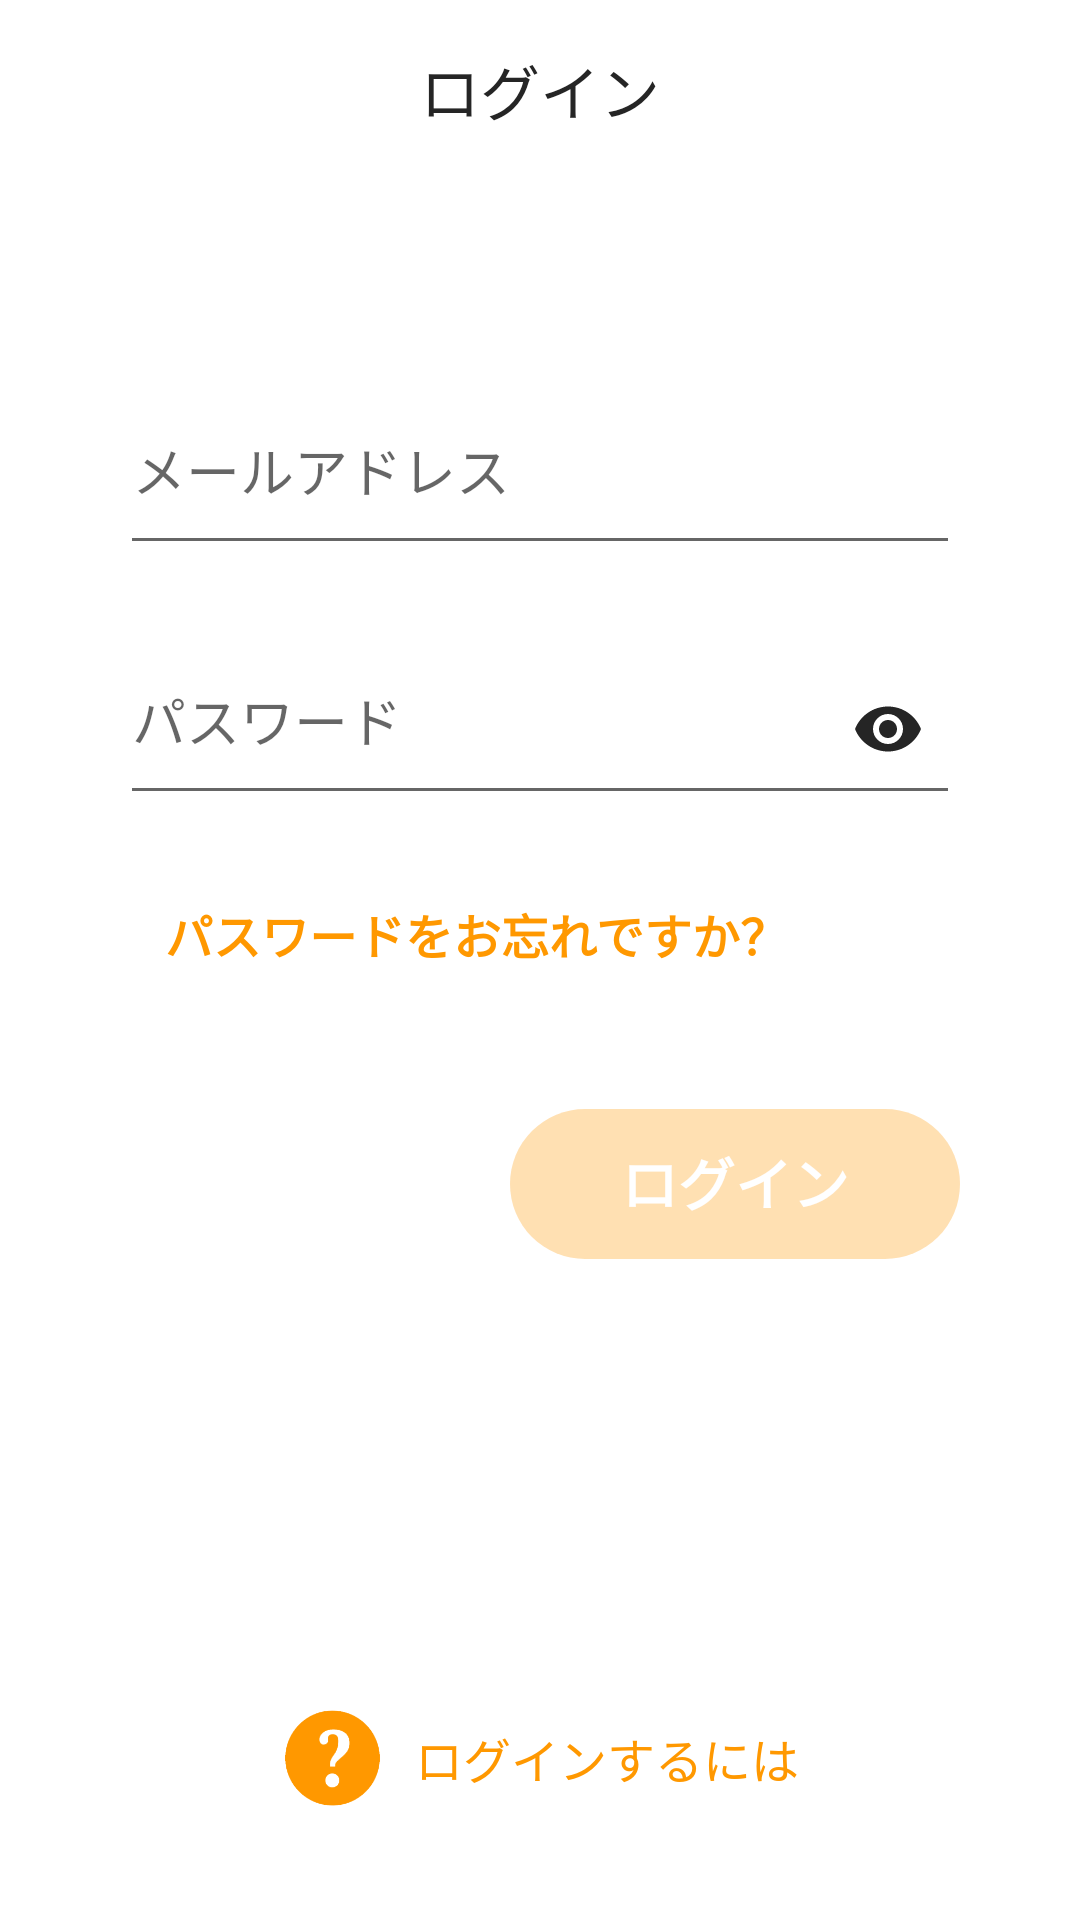

Point at icon controls on the screen. Image size 1080px×1920px, points as point (x, y).
help: point (332, 1758)
